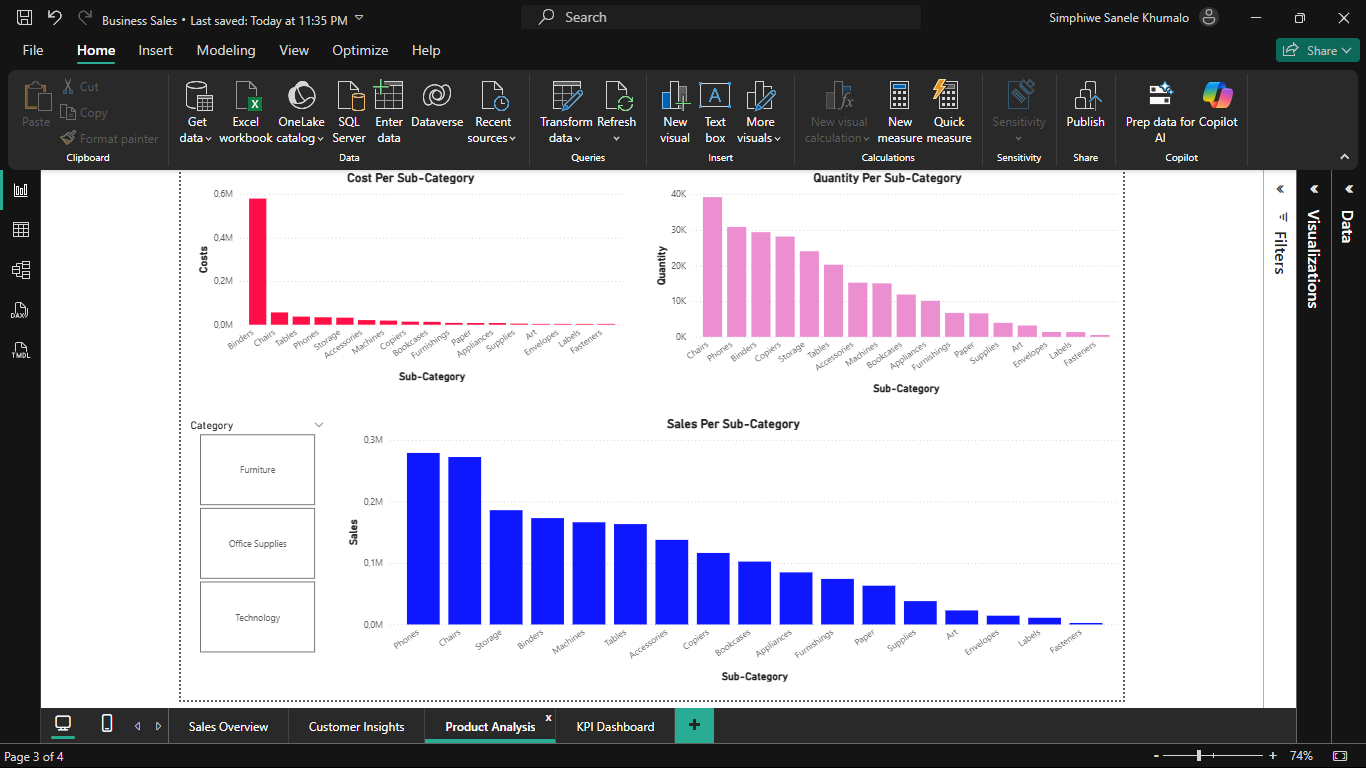

Layout of this report page (visuals, bound fields, positions):
{"tool":"powerbi","page":{"name":"Product Analysis","canvas":[1280,720],"ordinal":2},"visuals":[{"type":"clusteredColumnChart","title":"Cost Per Sub-Category","fields":{"Y":["Sum(Sales_Info.Cost)"],"Category":["Sales_Info.Sub-Category"]},"box":[17.9,0,589.1,293.2],"z":0},{"type":"slicer","fields":{"Values":["Sales_Info.Category"]},"box":[0,334.5,206.5,327.6],"z":1},{"type":"clusteredColumnChart","title":"Quantity Per Sub-Category","fields":{"Y":["Sum(Sales_Info.Quantity)"],"Category":["Sales_Info.Sub-Category"]},"box":[640,0,640,309.7],"z":2},{"type":"clusteredColumnChart","title":"Sales Per Sub-Category","fields":{"Category":["Sales_Info.Sub-Category"],"Y":["Sum(Sales_Info.Sales Amount)"]},"box":[221.7,334.3,1058.3,366.2],"z":3}]}

Visuals, with their boxes on the page's 1280x720 design canvas (x1, y1, x2, y2). These are canvas units, not pixel positions in the 1366x768 screenshot, which may show the page scaled, cropped or inside an application window:
"Cost Per Sub-Category" clusteredColumnChart: 18/0/607/293
slicer - Sales_Info.Category: 0/334/206/662
"Quantity Per Sub-Category" clusteredColumnChart: 640/0/1280/310
"Sales Per Sub-Category" clusteredColumnChart: 222/334/1280/700
